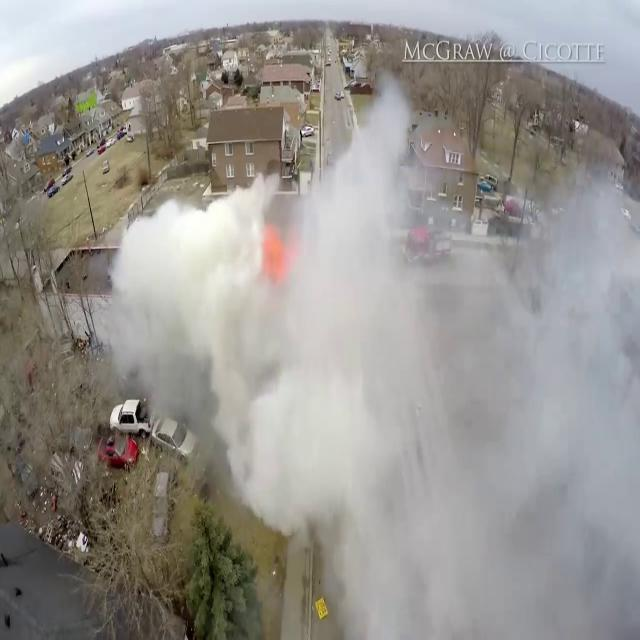Smoke: (103, 64, 640, 633)
